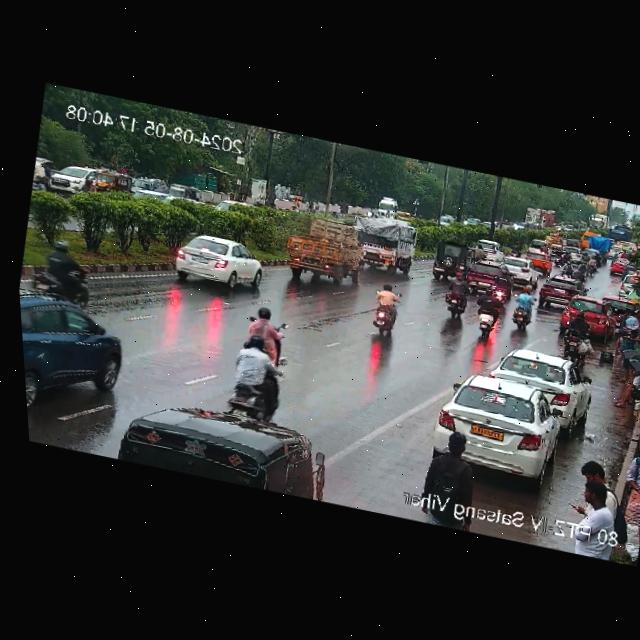car: (109, 386, 333, 501), (433, 372, 574, 487), (19, 285, 142, 409), (490, 343, 596, 415), (164, 226, 270, 294), (422, 233, 478, 283), (557, 291, 619, 336), (84, 167, 136, 208), (537, 271, 584, 316), (44, 156, 89, 193), (499, 256, 541, 288), (463, 255, 503, 288), (599, 289, 640, 311), (471, 238, 503, 263)
motorcycle: (219, 334, 295, 421), (32, 237, 97, 290), (553, 306, 598, 365), (243, 304, 291, 355), (365, 282, 405, 338), (471, 287, 506, 343), (440, 270, 473, 319), (505, 285, 539, 331), (580, 227, 615, 261), (559, 258, 595, 284), (492, 272, 519, 305), (605, 259, 629, 279)
person: (410, 429, 489, 533), (565, 460, 634, 543), (569, 482, 621, 561), (613, 446, 640, 567), (612, 366, 640, 416), (606, 306, 634, 356), (621, 326, 640, 361), (626, 308, 640, 333)
truck: (268, 209, 365, 290), (348, 212, 420, 275)
